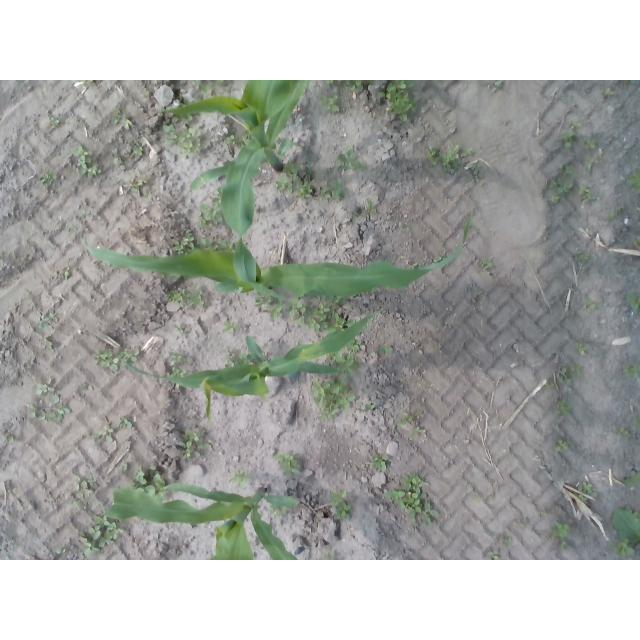Maize: (83, 204, 474, 297), (162, 81, 310, 303), (125, 308, 383, 424), (105, 480, 299, 561)
Weeds: (382, 471, 438, 526), (29, 378, 75, 425), (79, 514, 126, 559), (288, 296, 344, 333), (312, 377, 356, 423), (380, 80, 421, 122), (610, 506, 640, 557), (161, 123, 203, 154), (426, 145, 472, 173), (180, 428, 217, 462), (94, 346, 137, 375), (128, 468, 165, 501), (551, 162, 578, 206), (167, 284, 205, 310), (75, 145, 102, 179), (546, 364, 582, 389), (199, 197, 223, 232), (273, 161, 299, 193), (336, 146, 369, 170), (397, 412, 426, 439), (256, 295, 285, 322), (74, 472, 102, 496), (329, 490, 351, 520), (562, 120, 583, 151), (273, 452, 300, 476), (318, 177, 346, 200), (330, 353, 359, 375), (113, 102, 134, 131), (171, 230, 196, 253), (92, 423, 117, 445), (576, 483, 598, 506), (553, 523, 571, 550), (125, 178, 148, 199), (194, 80, 224, 96), (318, 93, 340, 114), (40, 309, 61, 331), (327, 80, 378, 89), (228, 469, 252, 488), (370, 452, 391, 471), (38, 169, 59, 187), (201, 236, 227, 250), (578, 180, 593, 204), (556, 396, 572, 418), (627, 167, 640, 193), (480, 80, 506, 92), (622, 474, 640, 491), (111, 147, 125, 168), (168, 350, 186, 366), (626, 292, 640, 312), (481, 256, 496, 274), (472, 162, 485, 182), (622, 363, 638, 379), (608, 206, 625, 221), (498, 533, 515, 548), (118, 417, 135, 432), (269, 506, 287, 520), (222, 319, 238, 334), (298, 182, 312, 199), (133, 140, 147, 157), (225, 346, 236, 367), (556, 438, 569, 455), (166, 367, 186, 378), (3, 431, 17, 446), (42, 338, 55, 354), (237, 133, 251, 147), (584, 135, 597, 150), (172, 114, 193, 123), (574, 343, 588, 356), (238, 351, 250, 366), (367, 198, 378, 214), (360, 403, 376, 414), (518, 518, 531, 531), (45, 116, 59, 128), (582, 301, 598, 311), (472, 288, 482, 304), (56, 547, 72, 557), (604, 87, 617, 99), (613, 427, 628, 437), (225, 134, 237, 146), (348, 338, 360, 350), (436, 253, 449, 264), (585, 158, 595, 172), (489, 550, 503, 560), (62, 265, 71, 280), (380, 345, 392, 356), (175, 323, 188, 333), (350, 210, 358, 226), (121, 462, 132, 473), (578, 253, 591, 262), (74, 498, 87, 507), (326, 550, 337, 560), (538, 505, 548, 516), (80, 210, 93, 218), (90, 297, 99, 308), (78, 80, 97, 85), (148, 189, 157, 198), (400, 222, 408, 230), (634, 418, 640, 427), (630, 80, 640, 85), (636, 237, 640, 244)
